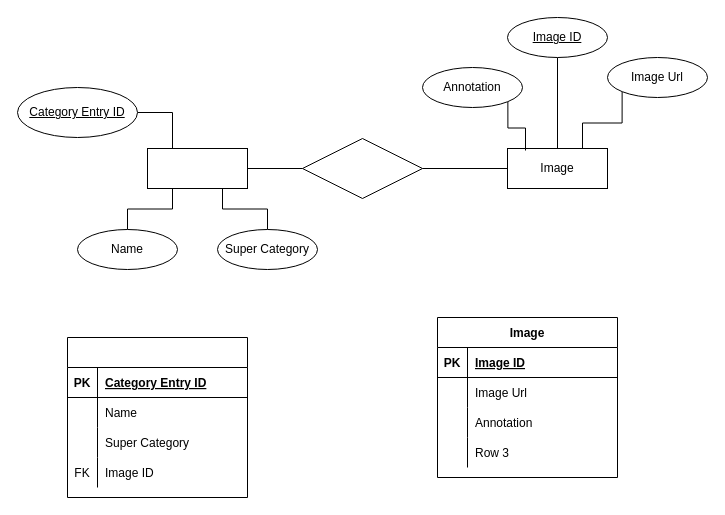
Some shapes in this 725 by 515 pixel diagram are drawn without their labels. The box of each missing label's shape, as (x1, y1, x2, y2) in pixels:
Category: (146, 148, 248, 188)
Contains: (302, 138, 422, 198)
Table: (66, 336, 248, 498)
